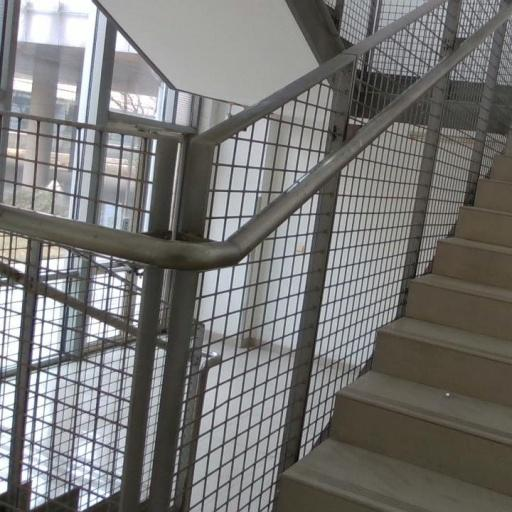stairs: (278, 155, 511, 511)
